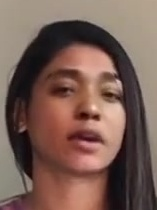eb_f: (42, 66, 125, 104)
